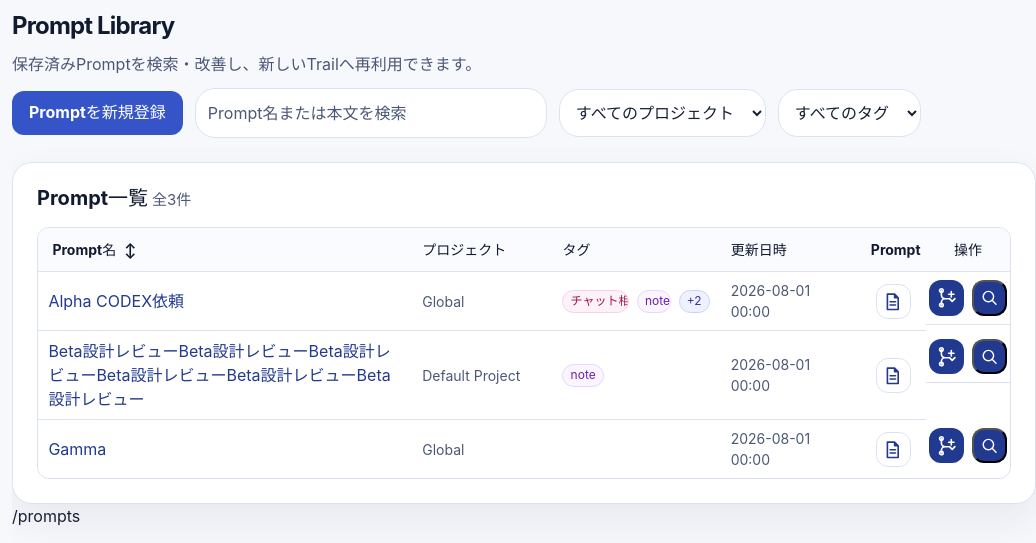
Test: PromptLibraryPage › shows tag chips per row, filters by tag, and combines it with Project and keyword conditions
Expected: the heading "Prompt一覧" is shown, [37,187,148,210]
Expected: the text "チャット相談" is shown, [562,290,629,313]
Select "note" in the 2nd dropdown named "タグ". click: (849, 113)
box: [778,89,921,137]
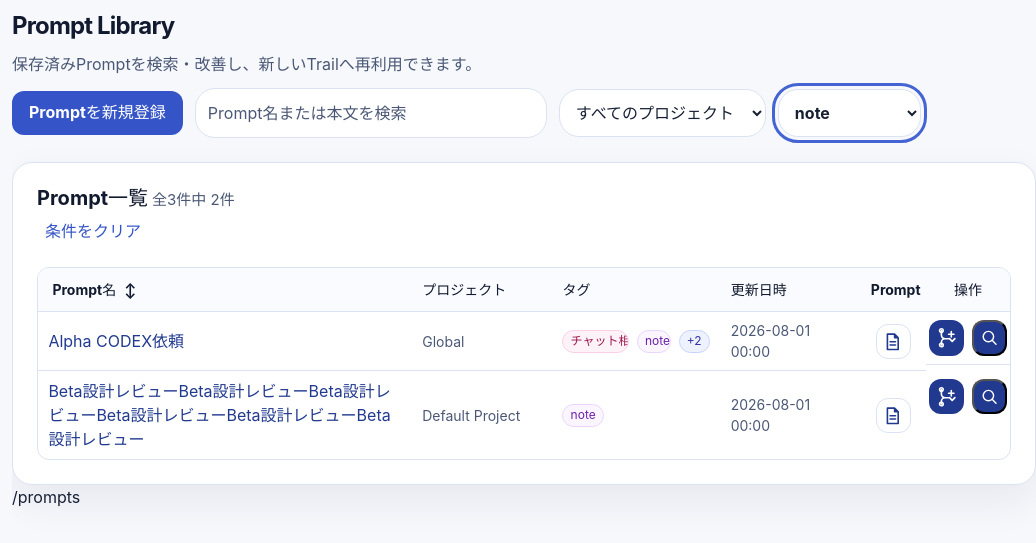
Expected: the link "Alpha CODEX依頼" is shown, [48,332,184,352]
Expected: the text "全3件中 2件" is shown, [152,189,235,211]
Expected: the link "Gamma" is gone
Select "Default Project" in the 1st dropdown named "プロジェクト". click: (662, 113)
box: [559,89,766,137]
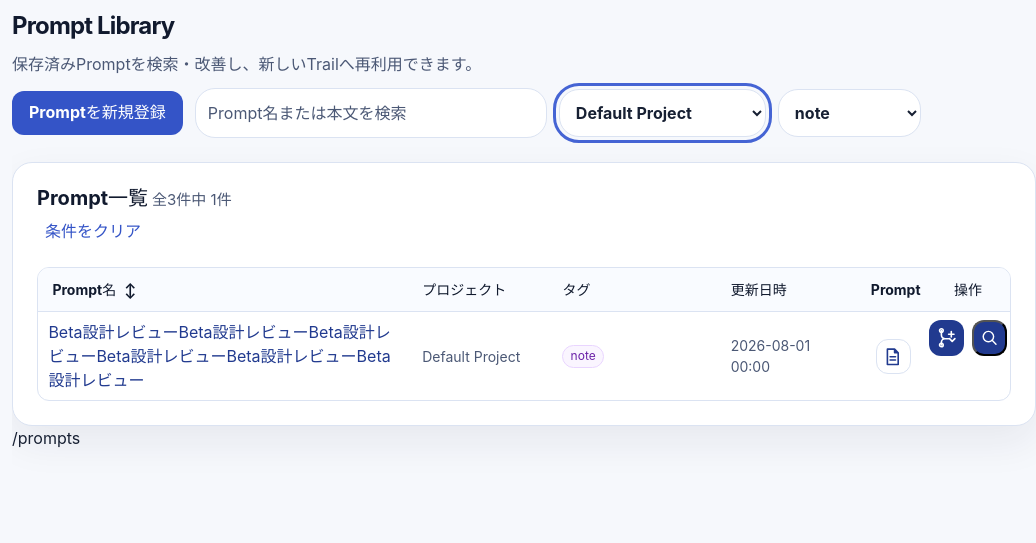
Expected: the text "全3件中 1件" is shown, [152,189,232,211]
Expected: the link "Alpha CODEX依頼" is gone
Type "チャット相談" into the search field named "Promptを検索". click: (371, 113)
box: [195,88,547,138]
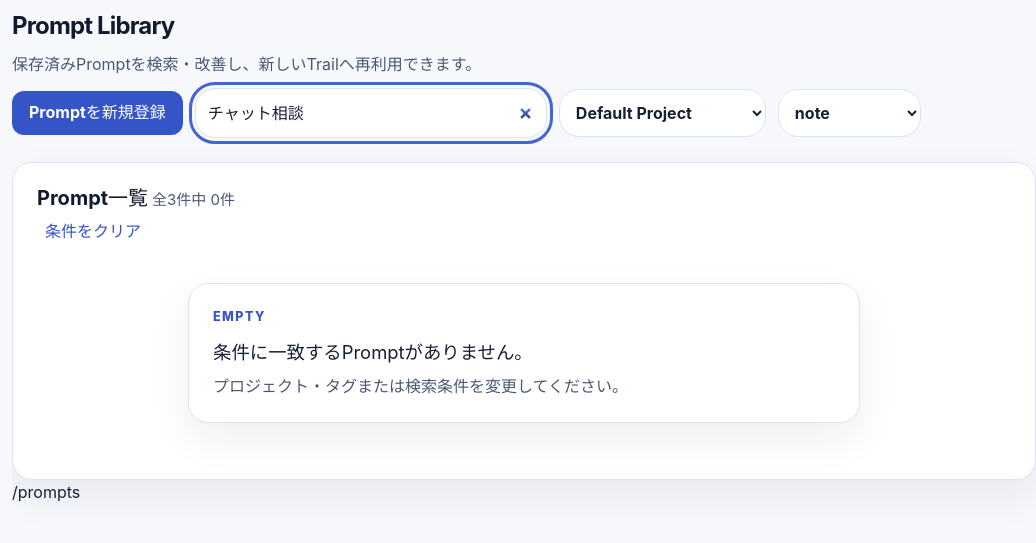
Expected: the text "全3件中 0件" is shown, [152,189,235,211]
Expected: the text "プロジェクト・タグまたは検索条件を変更してください。" is shown, [213,376,628,396]
Click the button "条件をクリア". click: (93, 231)
box: [37,211,149,251]
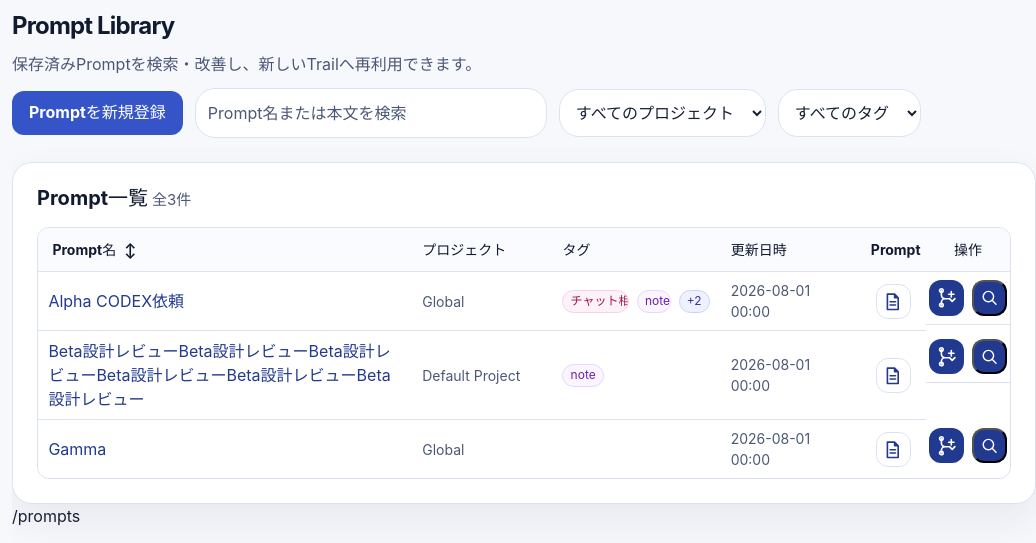
Expected: the text "全3件" is shown, [152,189,191,211]
Expected: the search field named "Promptを検索" is empty, [195,88,547,138]
